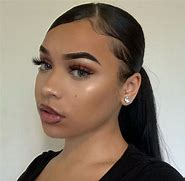person: (34, 3, 142, 142)
